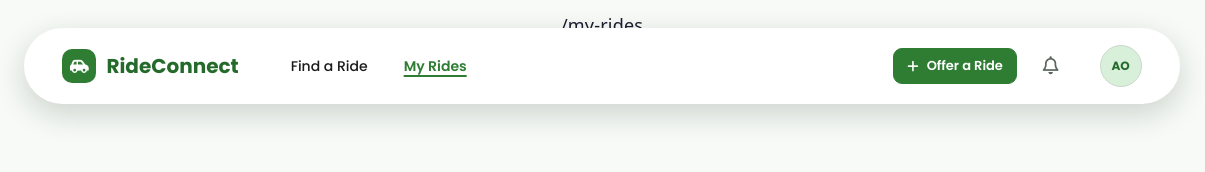
Test case: AppHeader › goes home from the brand
The image size is (1205, 172).
What coordinates should you click on to do the following:
click the button "RideConnect"
I would click on:
 (151, 66)
Its box is [62,49,239,83].
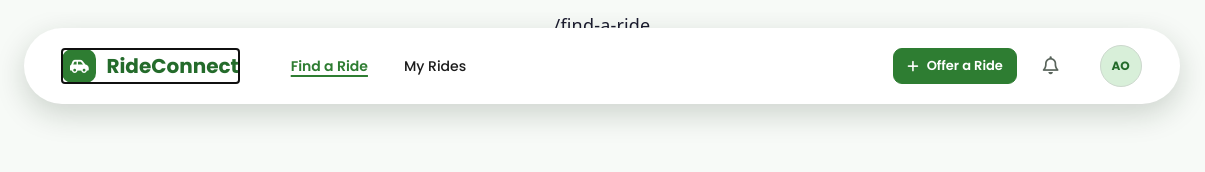
Now the text with test id "path" reads "/find-a-ride", box [554,13,650,37]
